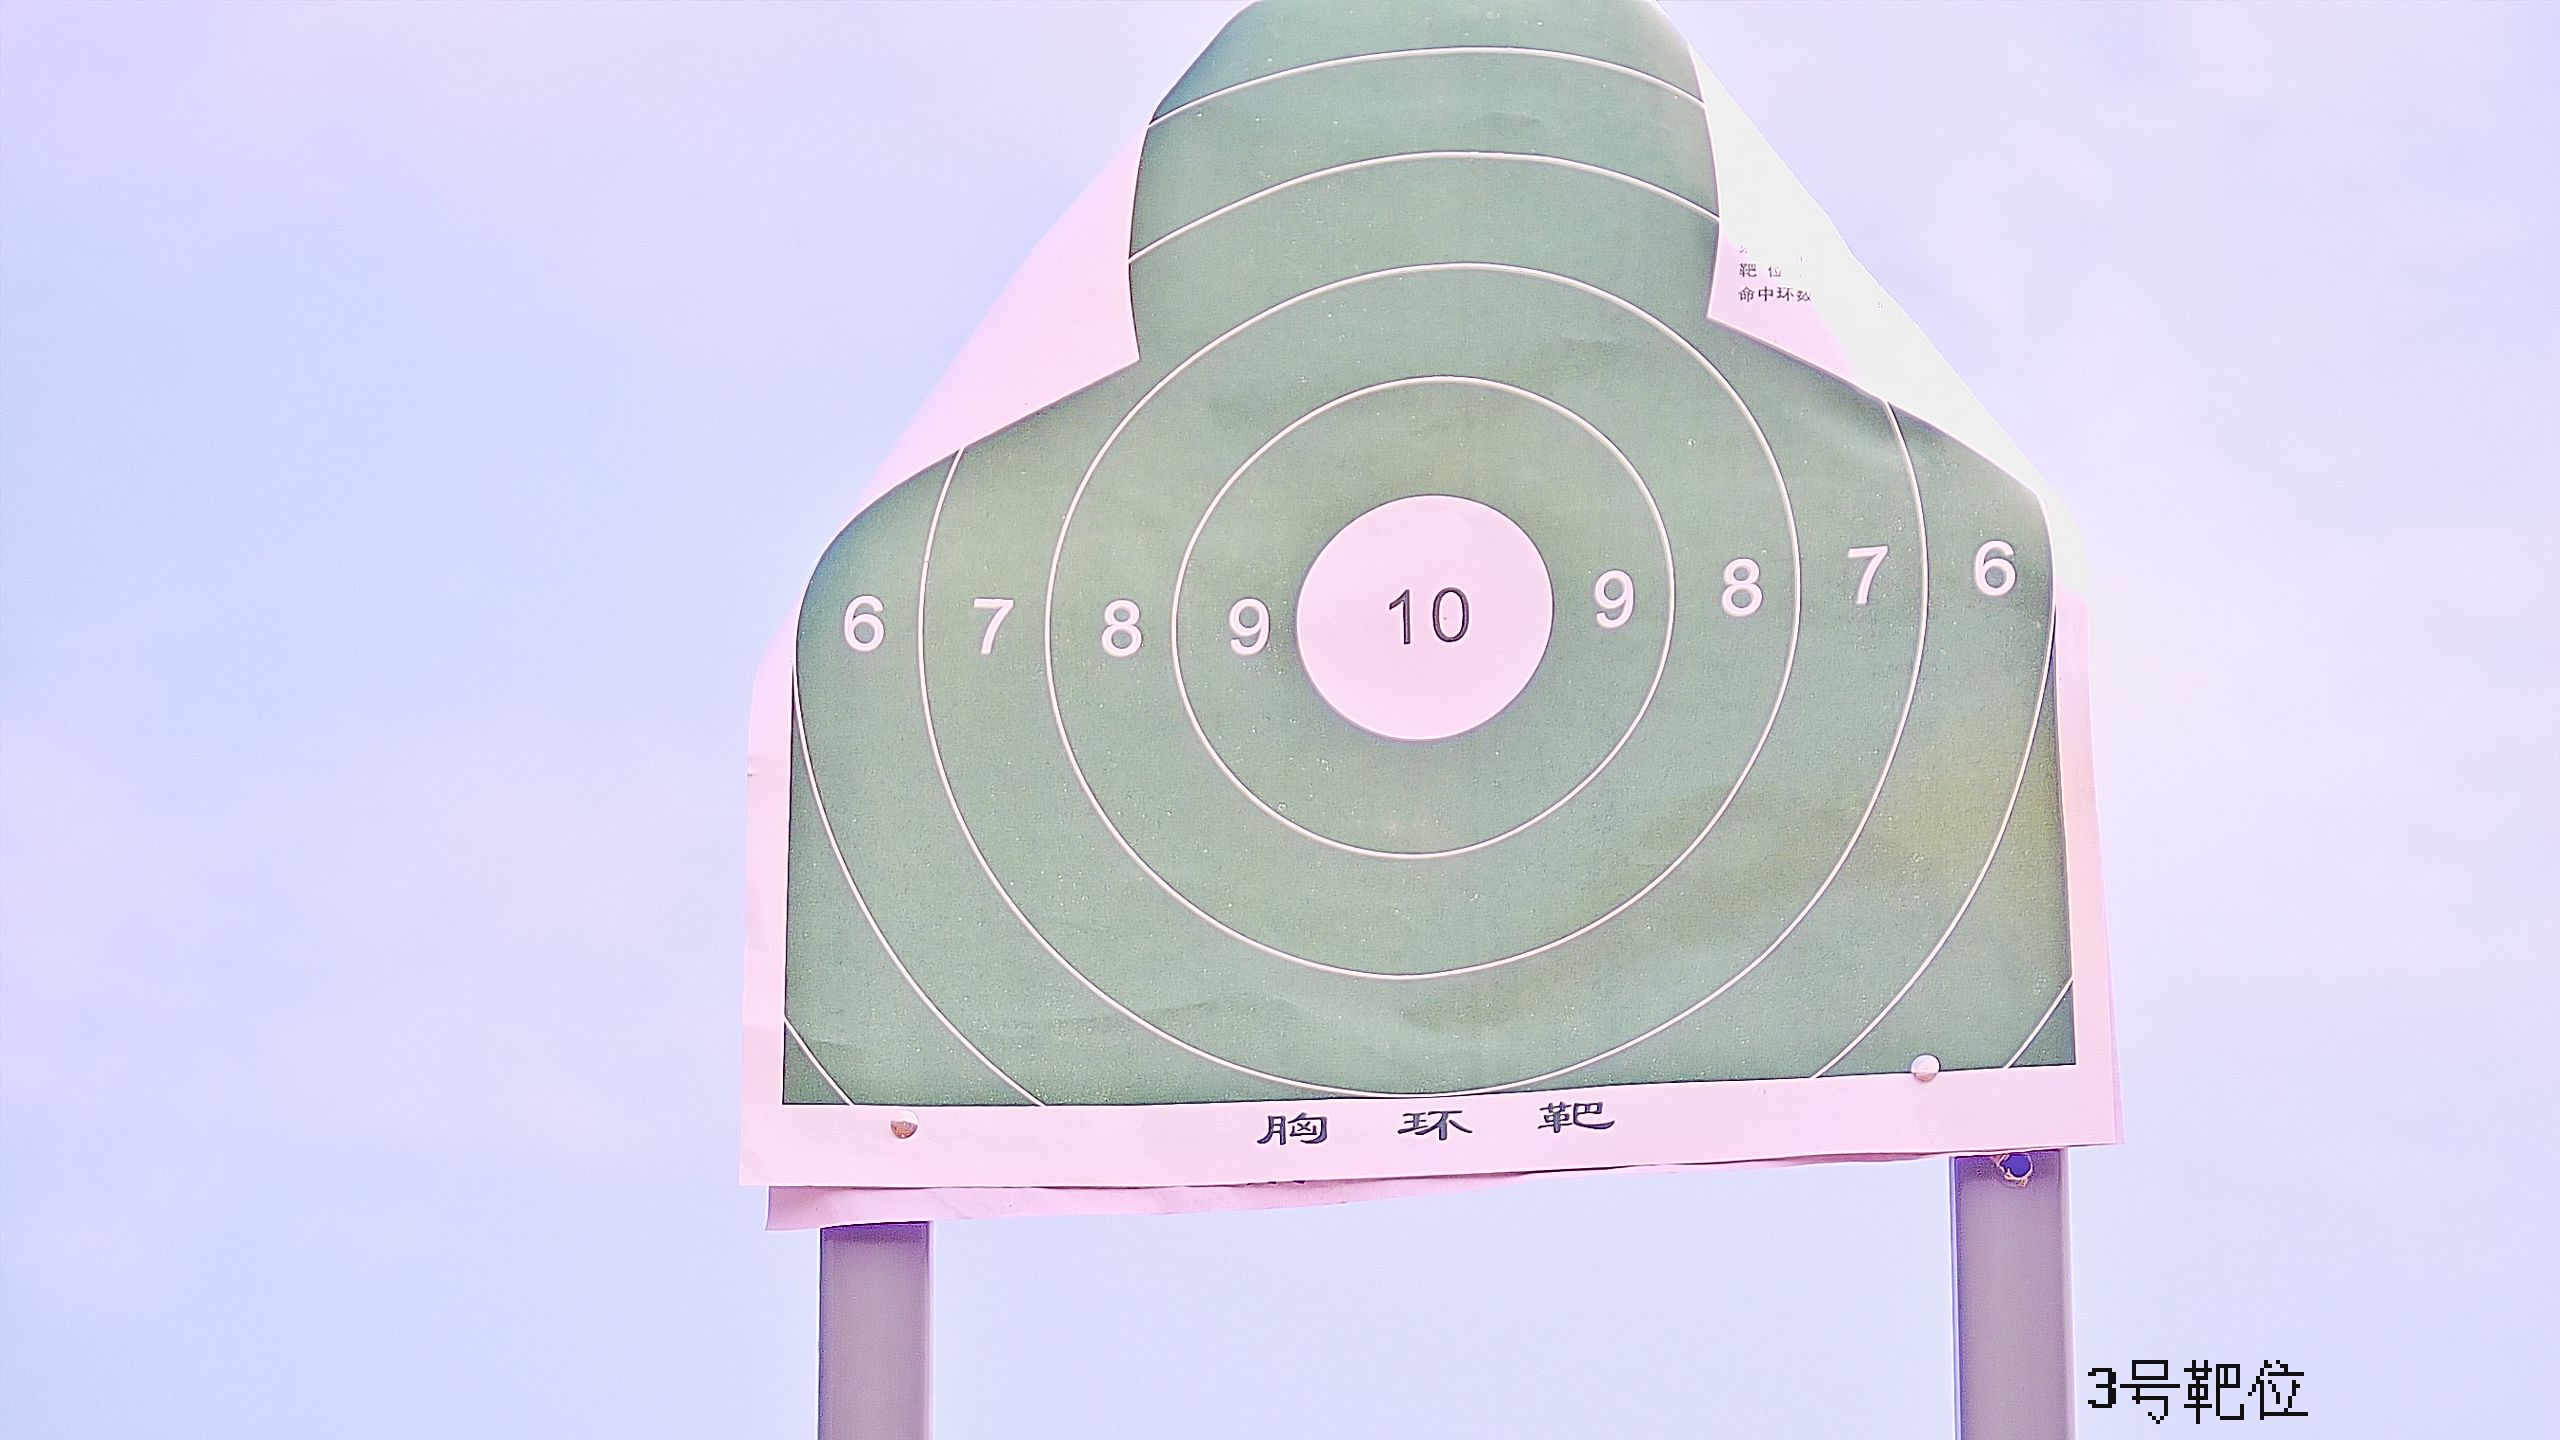kernel: (1417, 619, 1428, 622)
target: (777, 2, 2084, 1094)
ten: (1296, 491, 1554, 745)
